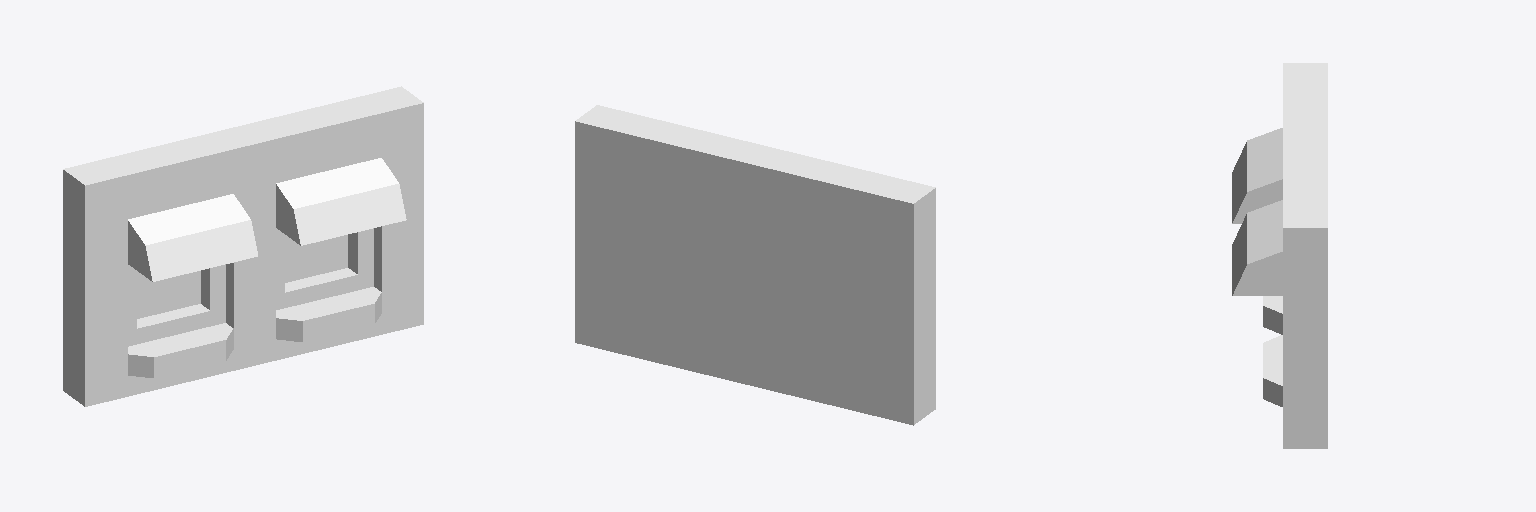
The model's file is Twin_window_tents_white.obj.
3 views of the same model, side by side, from view 1: azimuth 30°, elevation 25°; view 2: azimuth 150°, elevation 25°; view 3: azimuth 270°, elevation 25° (orthographic).
Parts seen in each view (by area): view 1: building-window-awnings; view 2: building-window-awnings; view 3: building-window-awnings.
Boxes of the visible parts, <box> form: building-window-awnings: <box>63,86,423,406</box>; building-window-awnings: <box>575,105,935,425</box>; building-window-awnings: <box>1232,63,1327,448</box>.
Size of the model in its own units: 1 by 0.625 by 0.2431.